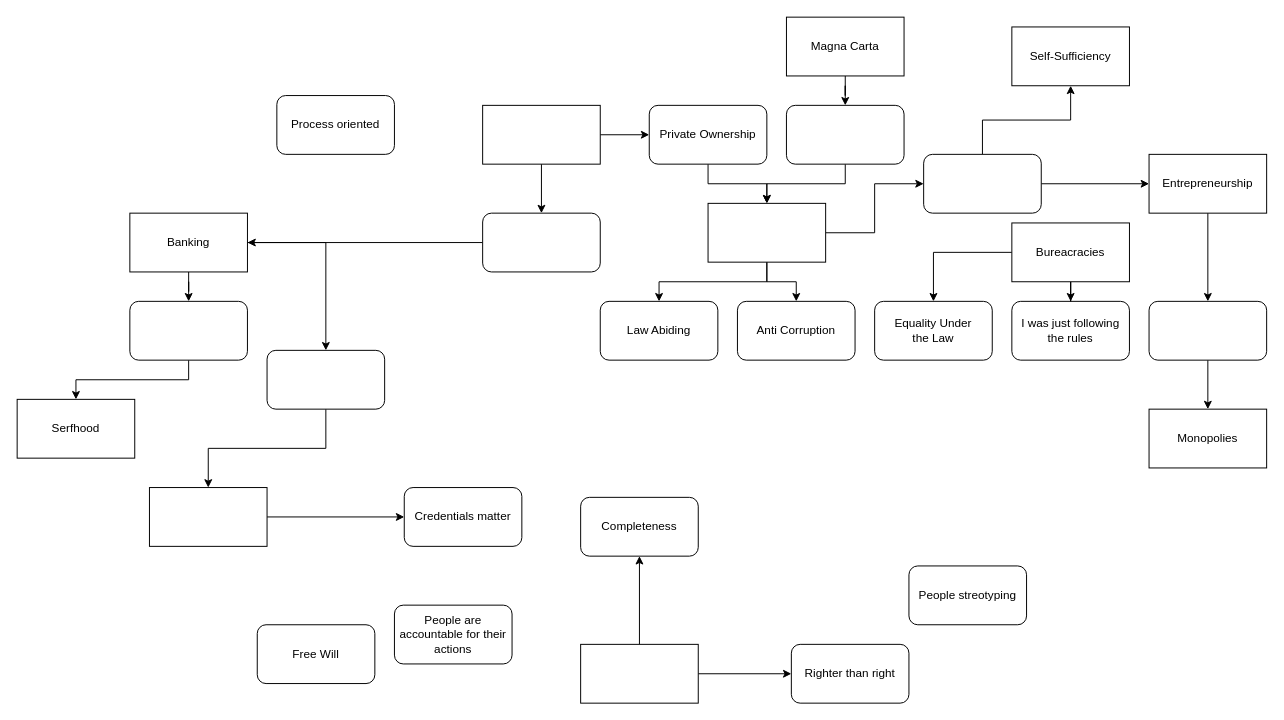
Image size: 1284x720. Some labels were removed from this diagram. Each missing label, with the box of its shape:
Academia: (148, 487, 267, 546)
Competition: (923, 153, 1041, 213)
Debt: (129, 300, 247, 360)
Free Market: (707, 202, 826, 262)
Money: (482, 104, 600, 164)
No one is above the law: (785, 104, 904, 164)
Rationalism: (580, 643, 698, 703)
Reputation and Honor: (266, 349, 385, 409)
Trust/Credit: (482, 212, 600, 272)
Winner Take All: (1148, 300, 1267, 360)
